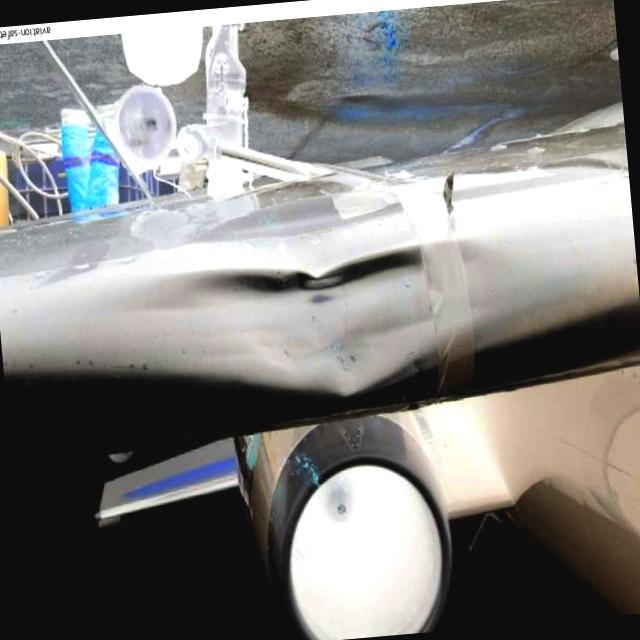dent: (180, 232, 499, 406)
